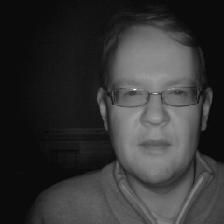normal: (87, 16, 213, 185)
